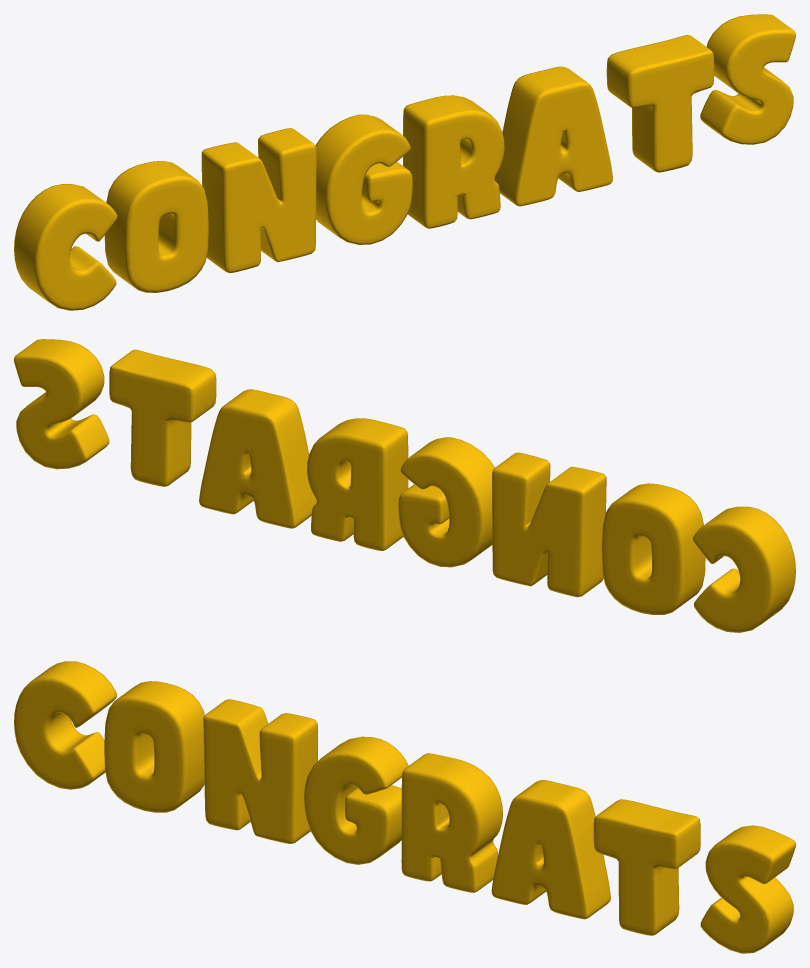
File: congrats.glb
3 views of the same model, one above another, from view 1: azimuth 30°, elevation 25°; view 2: azimuth 150°, elevation 25°; view 3: azimuth 330°, elevation 25° (orthographic).
Visible parts, largest first — view 1: A:N.001, A:A, A:O, A:R, A:G, A:T, A:C, A:S; view 2: A:N.001, A:A, A:O, A:R, A:G, A:T, A:C, A:S; view 3: A:N.001, A:A, A:R, A:O, A:G, A:T, A:C, A:S.
Part boxes in pixels (left/top/right/bottom): A:N.001: left=201, top=128, right=316, bottom=273; A:A: left=494, top=66, right=612, bottom=206; A:O: left=104, top=161, right=208, bottom=292; A:R: left=403, top=95, right=504, bottom=228; A:G: left=315, top=114, right=412, bottom=244; A:T: left=606, top=35, right=714, bottom=172; A:C: left=14, top=184, right=117, bottom=310; A:S: left=700, top=14, right=795, bottom=144; A:N.001: left=492, top=452, right=606, bottom=597; A:A: left=199, top=389, right=316, bottom=528; A:O: left=601, top=483, right=705, bottom=614; A:R: left=307, top=418, right=408, bottom=550; A:G: left=398, top=437, right=494, bottom=567; A:T: left=109, top=349, right=216, bottom=486; A:C: left=693, top=506, right=795, bottom=632; A:S: left=14, top=339, right=109, bottom=469; A:N.001: left=203, top=699, right=317, bottom=843; A:A: left=491, top=780, right=610, bottom=919; A:R: left=401, top=753, right=502, bottom=892; A:O: left=104, top=681, right=204, bottom=812; A:G: left=304, top=736, right=408, bottom=864; A:T: left=593, top=799, right=700, bottom=935; A:C: left=14, top=661, right=117, bottom=789; A:S: left=700, top=825, right=795, bottom=953.
Size of the model in its own units: 2.45 by 0.3594 by 0.1738.
